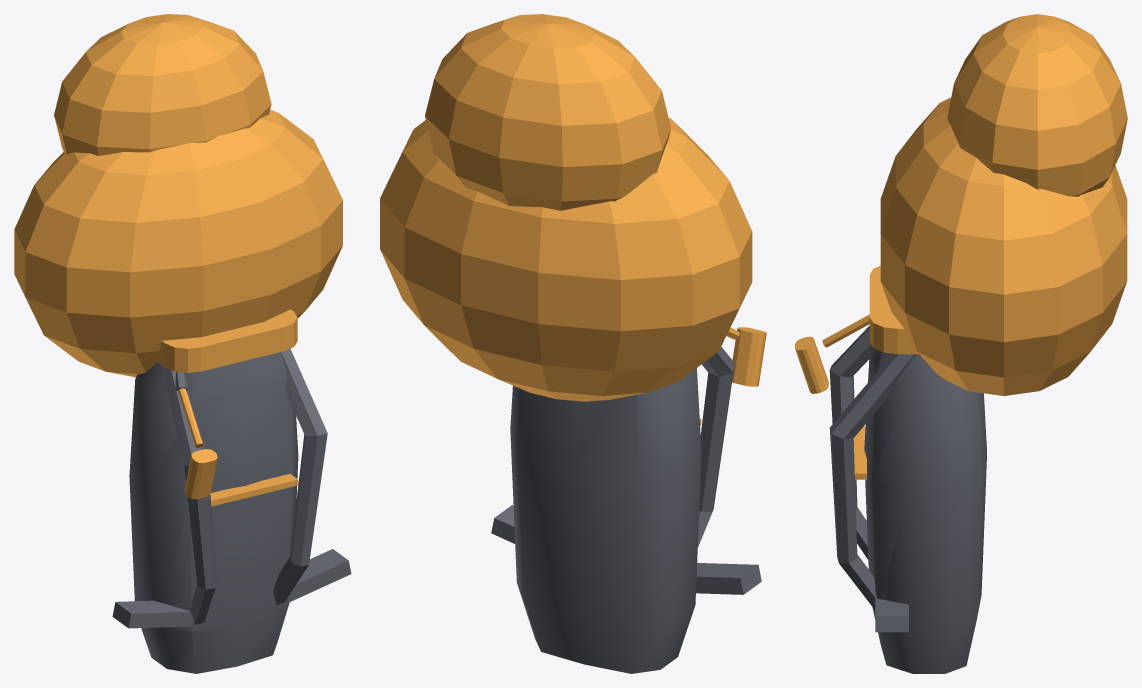
The model's file is backcountry-snowboarding-and-avalanche-safety-deployed-47d7ee28__18935.glb.
3 renders of one model, left to right at view 1: azimuth 30°, elevation 25°; view 2: azimuth 150°, elevation 25°; view 3: azimuth 270°, elevation 25°, orthographic. The views are drawn at different scales.
Visible parts, largest first — view 1: deployed-airbag-backpack; view 2: deployed-airbag-backpack; view 3: deployed-airbag-backpack.
Part boxes in pixels (bbox=[...]): deployed-airbag-backpack: bbox=[14, 14, 351, 673]; deployed-airbag-backpack: bbox=[380, 14, 766, 673]; deployed-airbag-backpack: bbox=[795, 14, 1127, 673].
Bounding box in the file's own units: 0.6647 × 1.22 × 0.5949.
